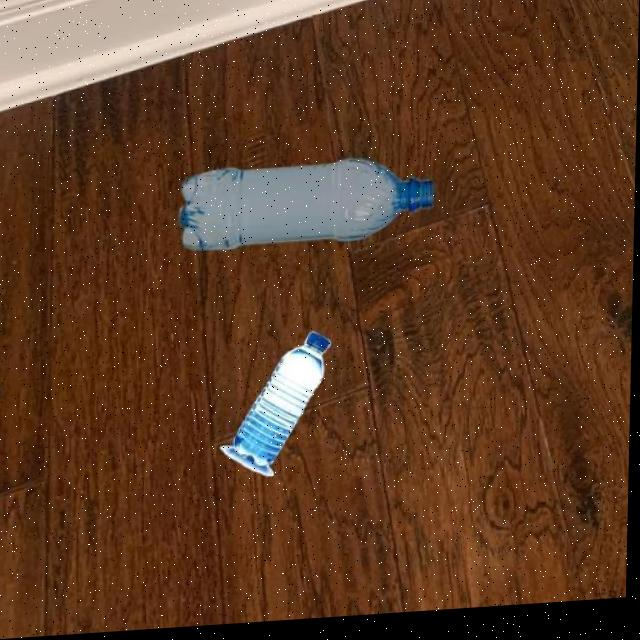bottle: (176, 155, 437, 257), (219, 332, 334, 484)
